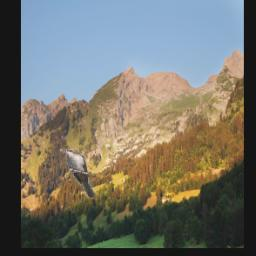Cuckoo: (60, 148, 95, 198)
